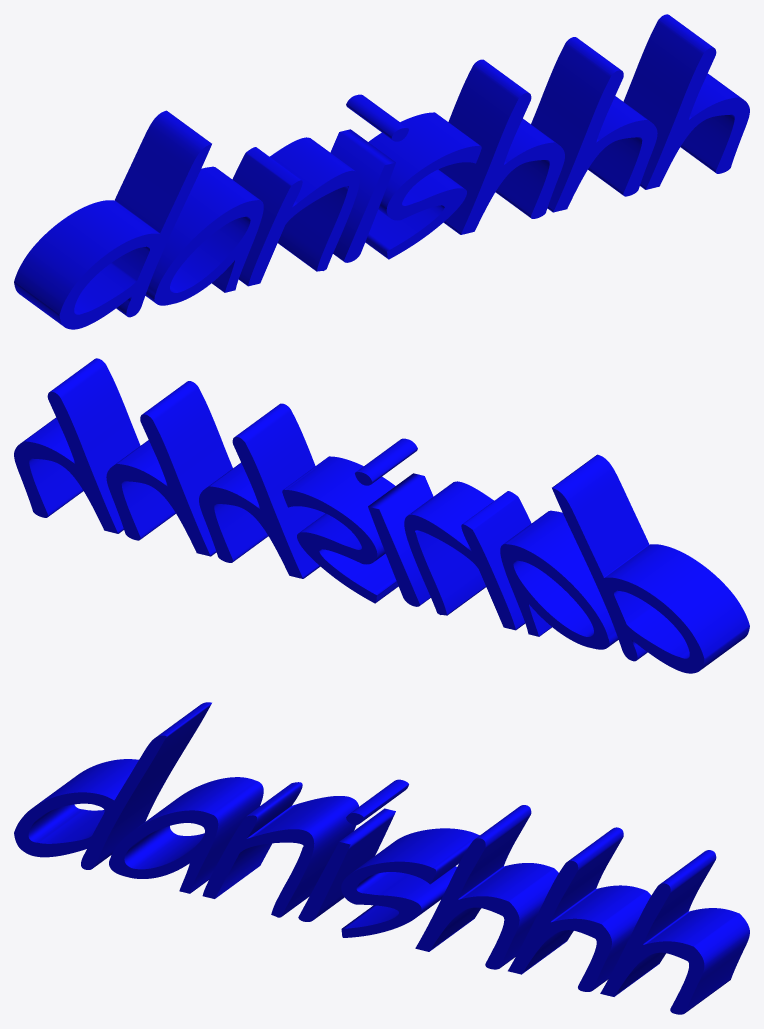
The picture shows the model from 3 angles, top to bottom: view 1: azimuth 30°, elevation 25°; view 2: azimuth 150°, elevation 25°; view 3: azimuth 330°, elevation 25°; orthographic projection.
Parts seen in each view (by area): view 1: danishhh; view 2: danishhh; view 3: danishhh.
Part boxes in pixels (x1,y1,x2,y2): danishhh: [14, 14, 749, 329]; danishhh: [14, 358, 749, 673]; danishhh: [14, 702, 749, 1014].
Size of the model in its own units: 3.94 by 0.8661 by 0.45.
